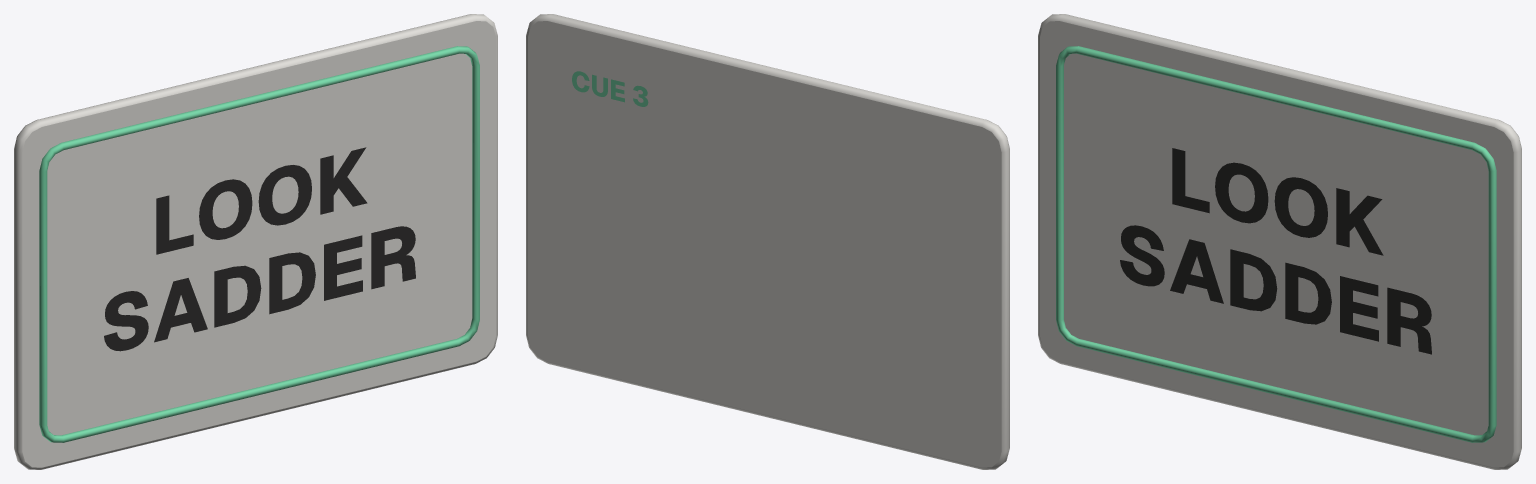
File: cue-card.glb
3 views of the same model, side by side, from view 1: azimuth 30°, elevation 25°; view 2: azimuth 150°, elevation 25°; view 3: azimuth 330°, elevation 25° (orthographic).
Parts seen in each view (by area): view 1: cue-card-card; view 2: cue-card-card; view 3: cue-card-card.
Boxes of the visible parts, box(x1,y1,x2,y2) form: cue-card-card: box(14, 14, 497, 469); cue-card-card: box(526, 14, 1009, 469); cue-card-card: box(1038, 14, 1521, 469).
Bounding box in the file's own units: 0.52 × 0.36 × 0.0177.
